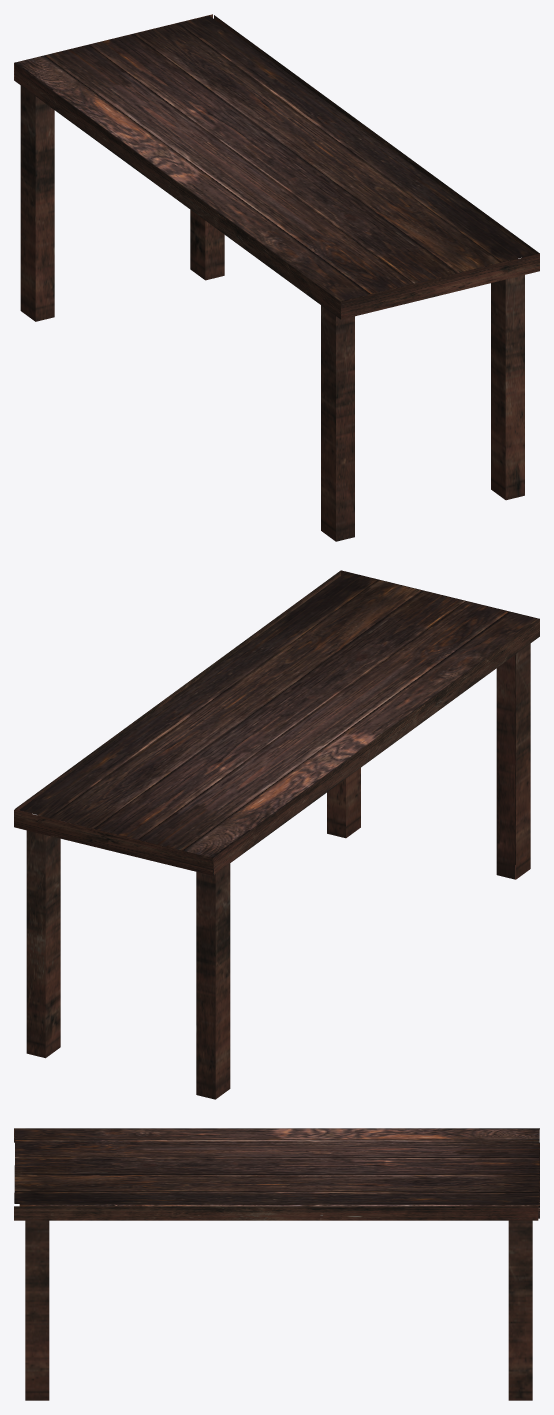
File: Mesa_2.fbx
The picture shows the model from 3 angles, top to bottom: view 1: azimuth 30°, elevation 25°; view 2: azimuth 150°, elevation 25°; view 3: azimuth 270°, elevation 25°; orthographic projection. The views are drawn at different scales.
Parts seen in each view (by area): view 1: Cube.020; view 2: Cube.020; view 3: Cube.020.
Boxes of the visible parts, <box> form: Cube.020: <box>14,14,539,541</box>; Cube.020: <box>14,570,539,1099</box>; Cube.020: <box>14,1128,539,1400</box>.
Bounding box in the file's own units: 115 × 136 × 328.
1 material, 1 textured.
